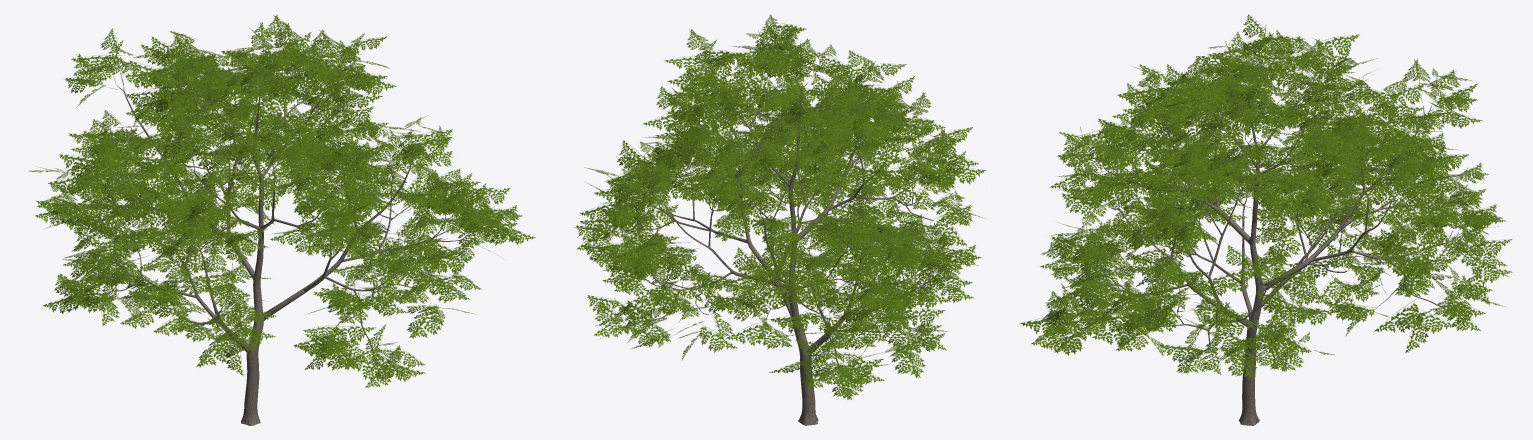
Rendered from chinaberry_young.glb.
3 views of the same model, side by side, from view 1: azimuth 30°, elevation 25°; view 2: azimuth 150°, elevation 25°; view 3: azimuth 270°, elevation 25° (orthographic). The views are drawn at different scales.
Visible parts, largest first — view 1: Melia_azedarach_HD_Melia bark 01_0; view 2: Melia_azedarach_HD_Melia bark 01_0; view 3: Melia_azedarach_HD_Melia bark 01_0.
Boxes of the visible parts, left/top/right/bottom form: Melia_azedarach_HD_Melia bark 01_0: left=28, top=14, right=535, bottom=425; Melia_azedarach_HD_Melia bark 01_0: left=574, top=14, right=986, bottom=425; Melia_azedarach_HD_Melia bark 01_0: left=1020, top=14, right=1512, bottom=425.
Size of the model in its own units: 4.88 by 4.37 by 5.01.
Materials: 2 (2 with a texture image).
